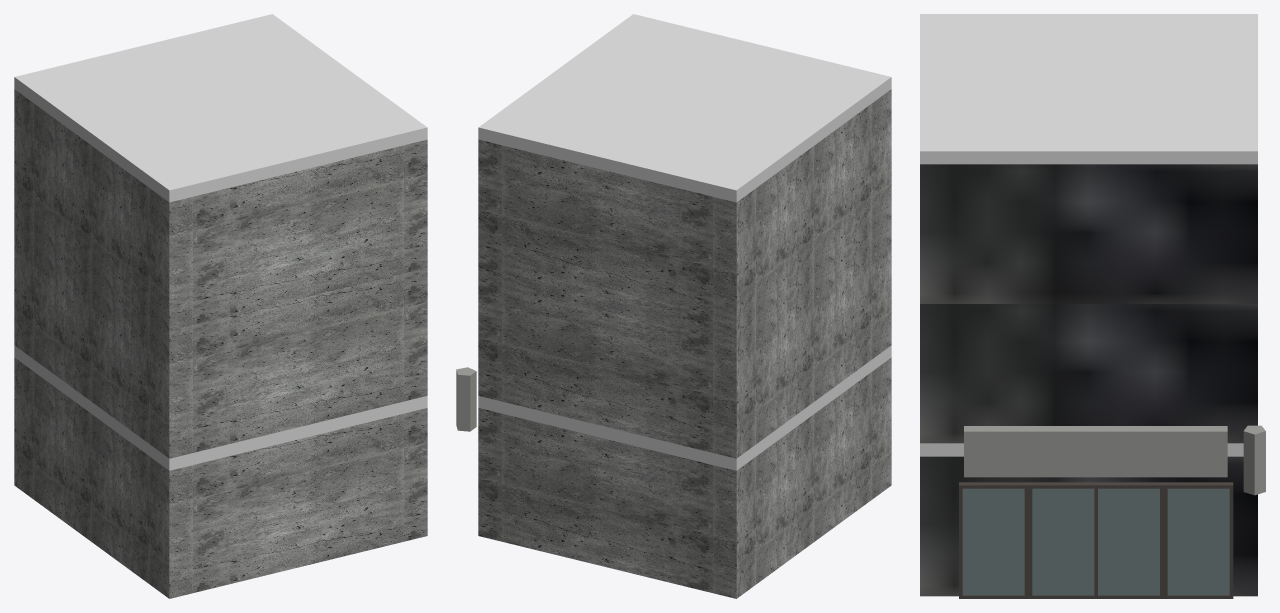
Rendered from dummyC.fbx.
The picture shows the model from 3 angles, left to right: view 1: azimuth 30°, elevation 25°; view 2: azimuth 150°, elevation 25°; view 3: azimuth 270°, elevation 25°; orthographic projection. The views are drawn at different scales.
Parts seen in each view (by area): view 1: Cube.017; view 2: Cube.017; view 3: Cube.017.
Boxes of the visible parts, bbox=[...] form: Cube.017: bbox=[14, 14, 427, 598]; Cube.017: bbox=[456, 14, 891, 598]; Cube.017: bbox=[920, 14, 1265, 598].
Size of the model in its own units: 460 by 638 by 449.
